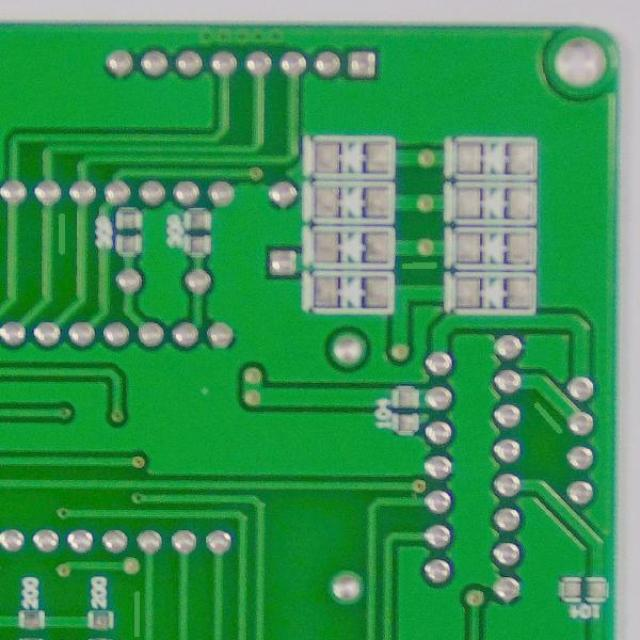Spurious_Cooper: (527, 392, 573, 438), (52, 208, 68, 258), (128, 584, 143, 637), (399, 257, 442, 273)
